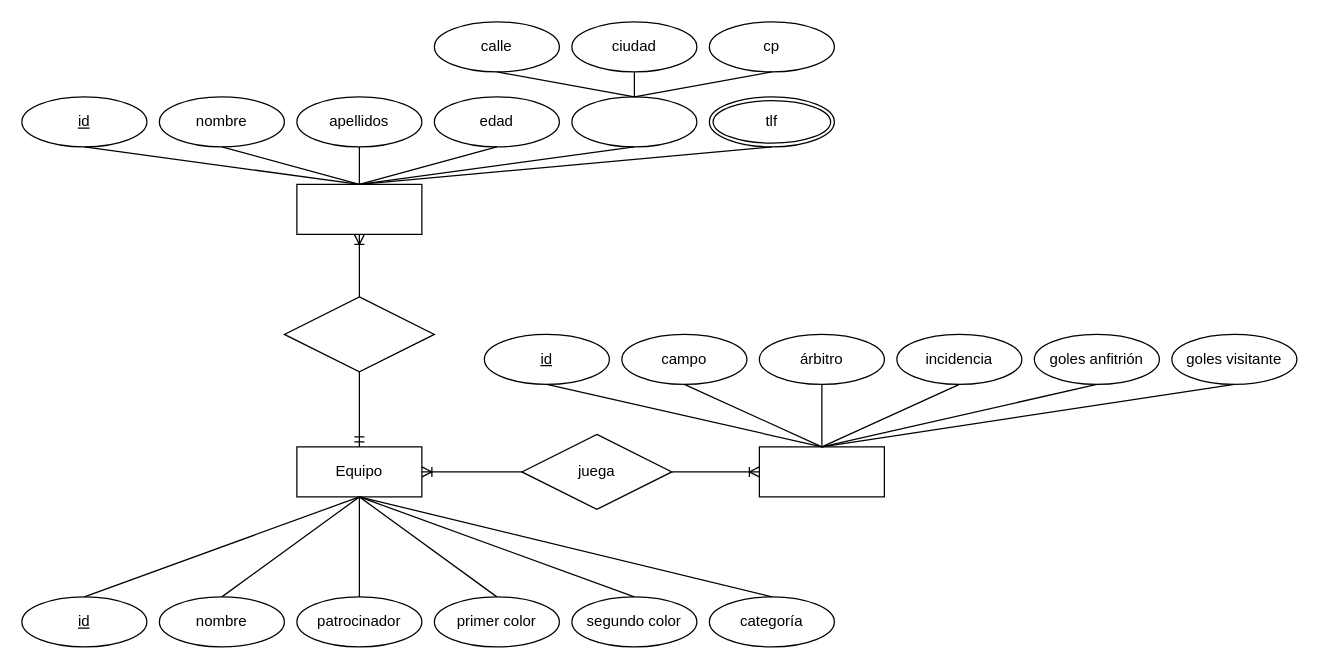
Some shapes in this 1319 by 669 pixel diagram are drawn without their labels. The shapes that lost their labels are listed below. From the top down, each one's centre as x and y in pixels, then its label:
At (x=634, y=121): "dirección".
At (x=359, y=208): "Jugador".
At (x=358, y=334): "pertenece".
At (x=821, y=471): "Partido".
